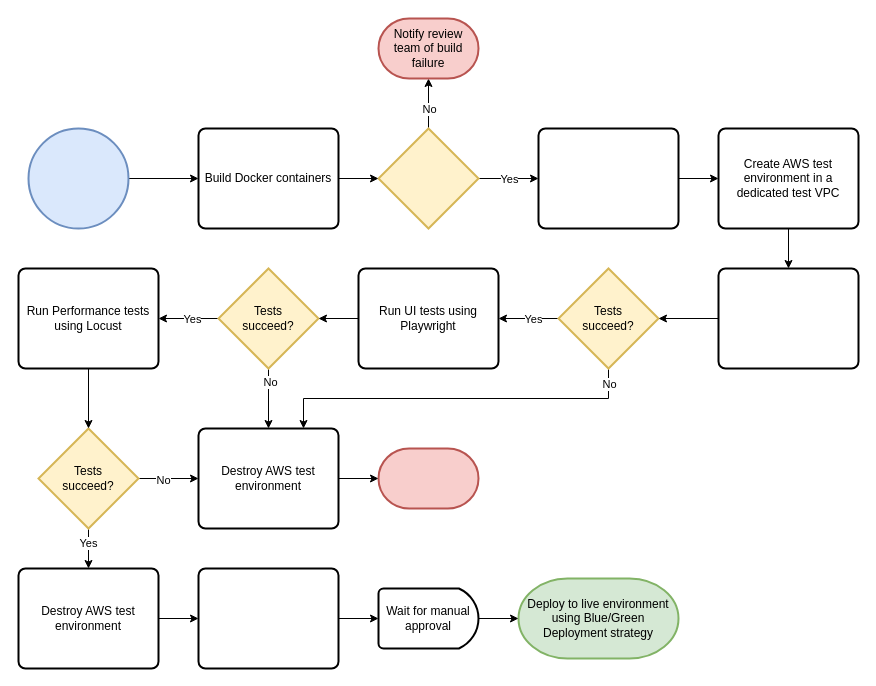
Image size: 876x686. Some labels were removed from this diagram. Each missing label, with the centre of its shape:
Build succeeds?: [428,178]
Main branch updated: [78,178]
Notify review team of test failure: [428,478]
Notify review team of test success: [268,618]
Push Docker containers to ECR using commit SHA as tag: [608,178]
Run service tests using Python pytest: [788,318]
